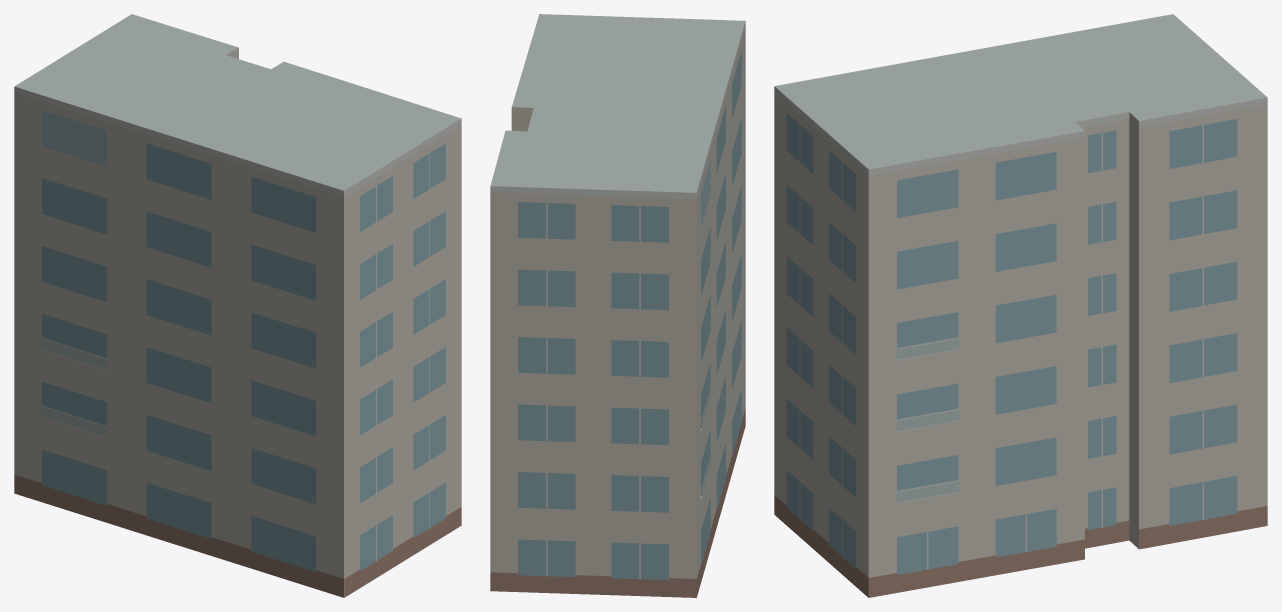
The model's file is survey-upis-32595392.glb.
The picture shows the model from 3 angles, left to right: view 1: azimuth 30°, elevation 25°; view 2: azimuth 150°, elevation 25°; view 3: azimuth 270°, elevation 25°; orthographic projection. The views are drawn at different scales.
Visible parts, largest first — view 1: survey-upis-32595392.tmp; view 2: survey-upis-32595392.tmp; view 3: survey-upis-32595392.tmp.
Boxes of the visible parts, box(x1,y1,x2,y2) form: survey-upis-32595392.tmp: box(14, 14, 461, 597); survey-upis-32595392.tmp: box(490, 14, 745, 597); survey-upis-32595392.tmp: box(774, 14, 1267, 597).
Size of the model in its own units: 12.39 by 15.9 by 16.61.
